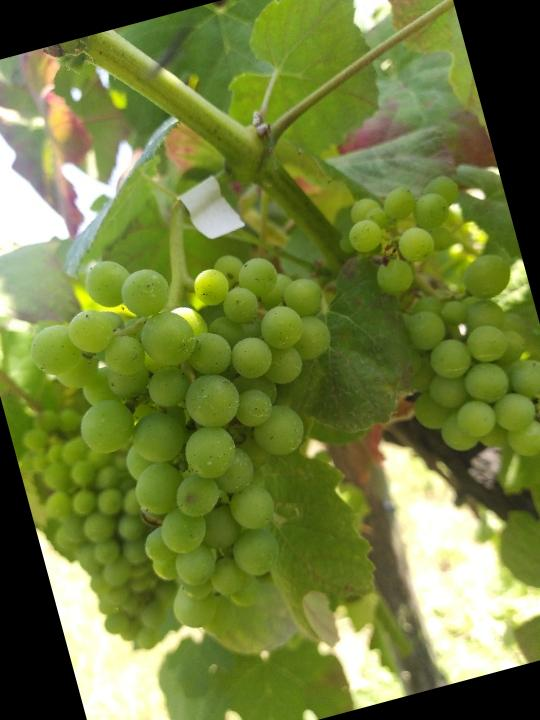grape: (12, 203, 402, 657)
